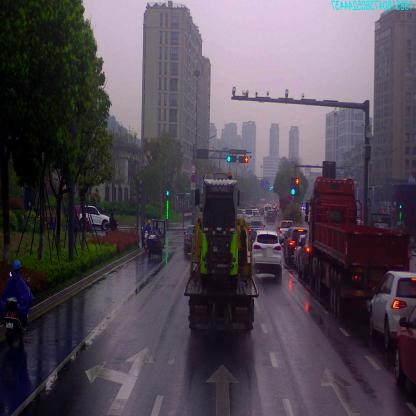traffic-light: (226, 154, 236, 164), (238, 155, 250, 162)
